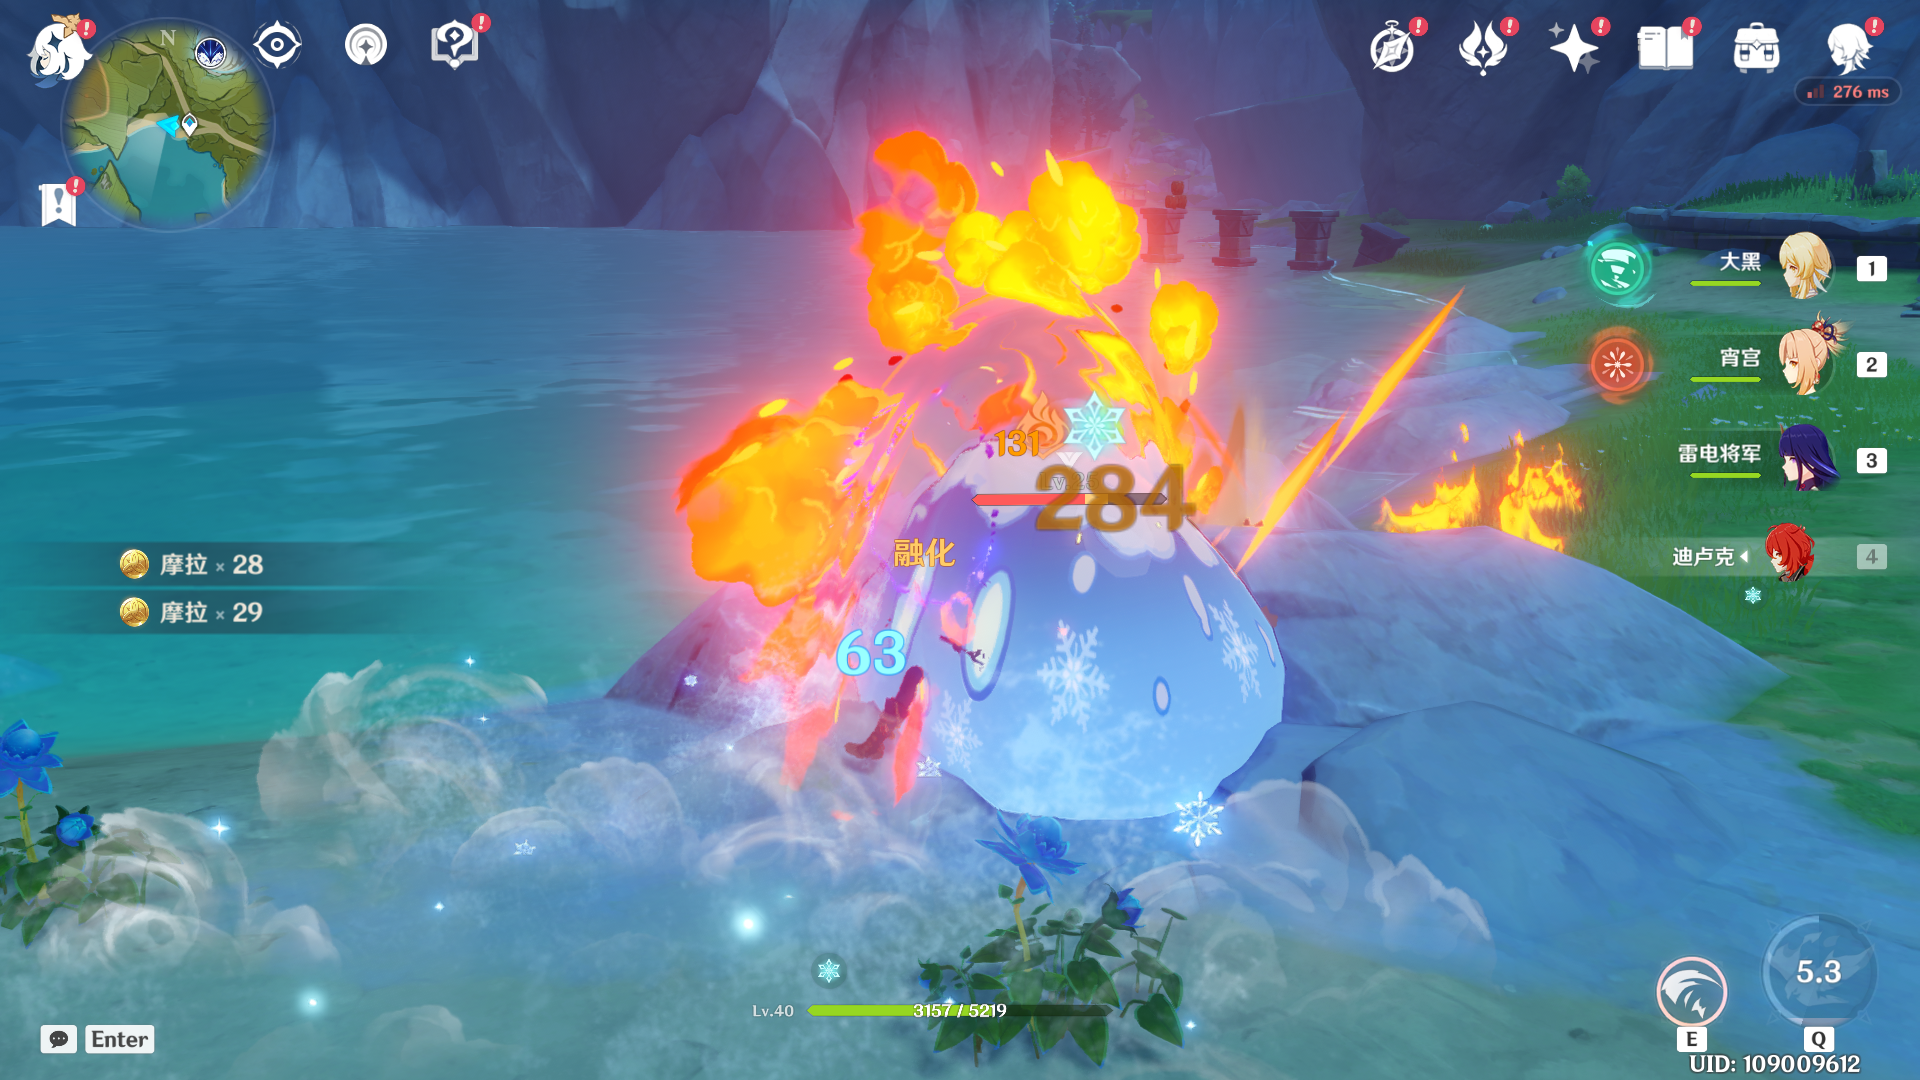slime: (855, 398, 1312, 835)
